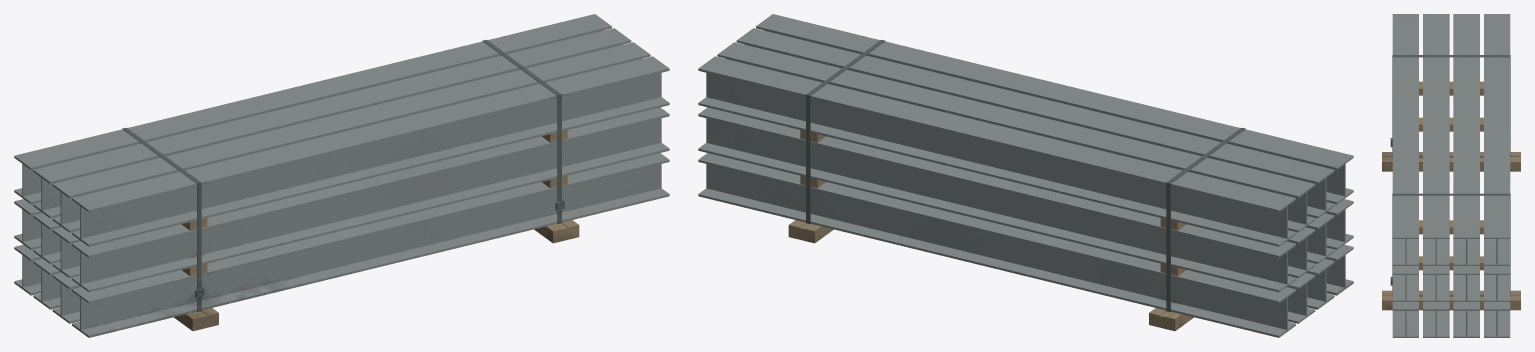
File: industry_steel_beam_stack_large.glb
The picture shows the model from 3 angles, left to right: view 1: azimuth 30°, elevation 25°; view 2: azimuth 150°, elevation 25°; view 3: azimuth 270°, elevation 25°; orthographic projection. The views are drawn at different scales.
Parts seen in each view (by area): view 1: SteelBeamStack; view 2: SteelBeamStack; view 3: SteelBeamStack.
Boxes of the visible parts, box(x1,y1,x2,y2) form: SteelBeamStack: box(14, 14, 669, 337); SteelBeamStack: box(698, 14, 1353, 337); SteelBeamStack: box(1382, 14, 1520, 337).
Size of what is drawn, in the model's own units: 4 by 0.923 by 1.05.
Materials: 1 (1 with a texture image).
